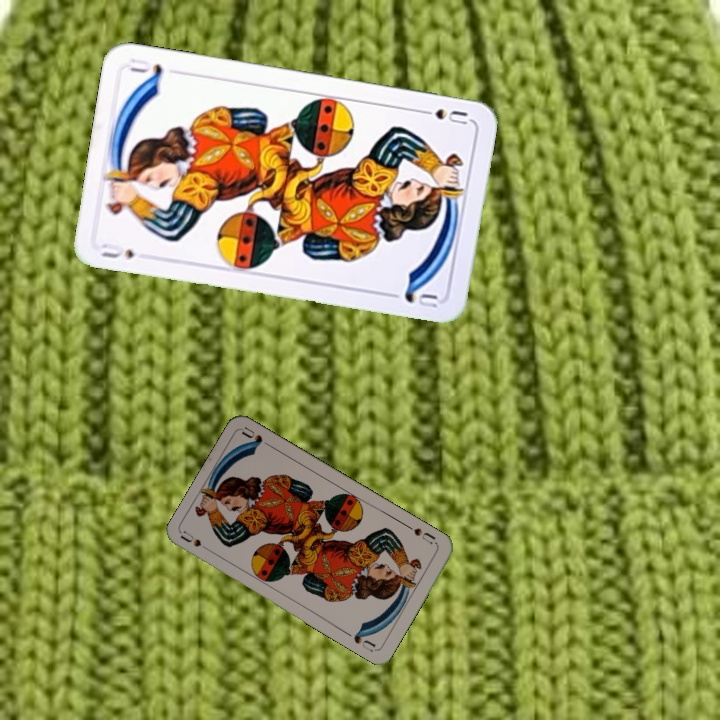SU: (413, 105, 471, 127), (177, 527, 216, 556), (403, 521, 438, 547), (97, 239, 137, 261)
